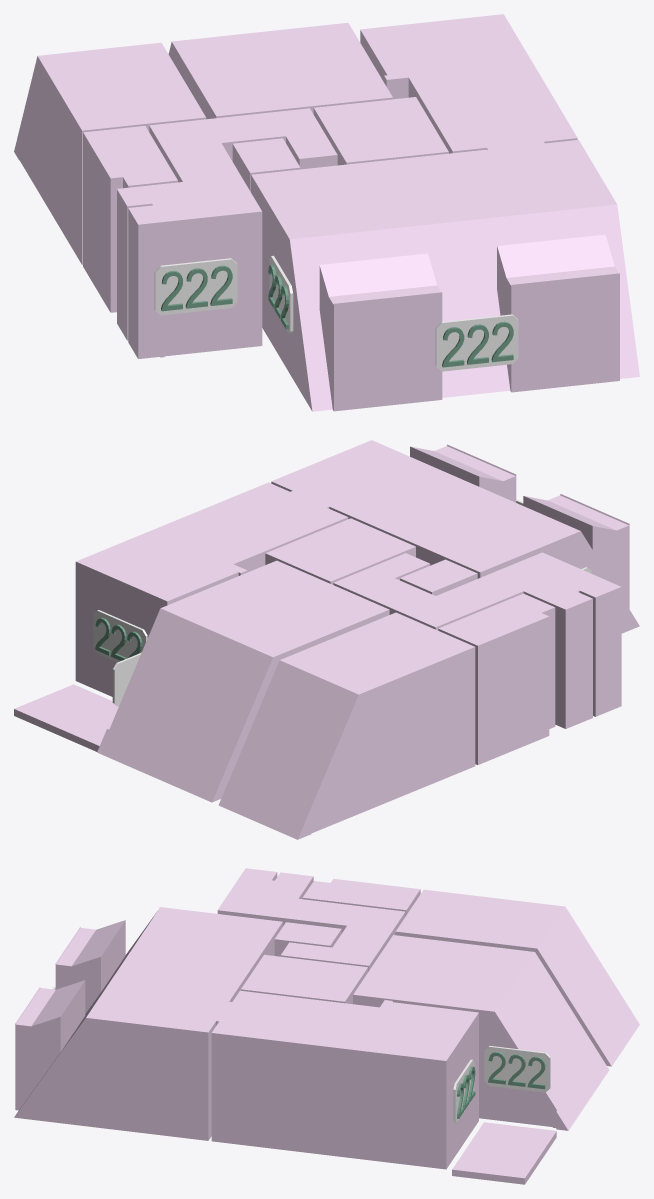
3 views of the same model, one above another, from view 1: azimuth 30°, elevation 25°; view 2: azimuth 150°, elevation 25°; view 3: azimuth 270°, elevation 25° (orthographic). The views are drawn at different scales.
Visible parts, largest first — view 1: g_6, g_4, g_5, g_2, g_1, g_0, g_3, g_20, g_24, g_7, g_16; view 2: g_2, g_1, g_6, g_5, g_4, g_0, g_3, g_8, g_7, g_12, g_28; view 3: g_6, g_5, g_1, g_2, g_4, g_8, g_3, g_0, g_28, g_7, g_12.
Part boxes in pixels (bbox=[...]): g_6: bbox=[251, 140, 639, 411]; g_4: bbox=[117, 108, 337, 358]; g_5: bbox=[360, 14, 577, 153]; g_2: bbox=[14, 42, 206, 264]; g_1: bbox=[168, 22, 392, 119]; g_0: bbox=[83, 126, 177, 312]; g_3: bbox=[313, 97, 448, 165]; g_20: bbox=[154, 258, 237, 315]; g_24: bbox=[435, 314, 518, 371]; g_7: bbox=[232, 138, 300, 191]; g_16: bbox=[269, 255, 293, 334]; g_2: bbox=[218, 612, 475, 839]; g_1: bbox=[97, 560, 389, 802]; g_6: bbox=[271, 440, 639, 633]; g_5: bbox=[75, 482, 348, 696]; g_4: bbox=[333, 552, 621, 728]; g_0: bbox=[438, 593, 555, 764]; g_3: bbox=[265, 518, 415, 584]; g_8: bbox=[14, 684, 118, 751]; g_7: bbox=[400, 559, 477, 595]; g_12: bbox=[93, 610, 147, 662]; g_28: bbox=[112, 652, 141, 706]; g_6: bbox=[14, 907, 282, 1140]; g_5: bbox=[211, 990, 478, 1169]; g_1: bbox=[353, 935, 609, 1130]; g_2: bbox=[395, 889, 639, 1066]; g_4: bbox=[217, 868, 405, 971]; g_8: bbox=[452, 1122, 556, 1184]; g_3: bbox=[241, 954, 368, 1004]; g_0: bbox=[302, 878, 420, 915]; g_28: bbox=[484, 1045, 550, 1092]; g_7: bbox=[274, 922, 341, 956]; g_12: bbox=[453, 1059, 474, 1122].
Bounding box in the file's own units: 10.12 × 2.71 × 13.31.
